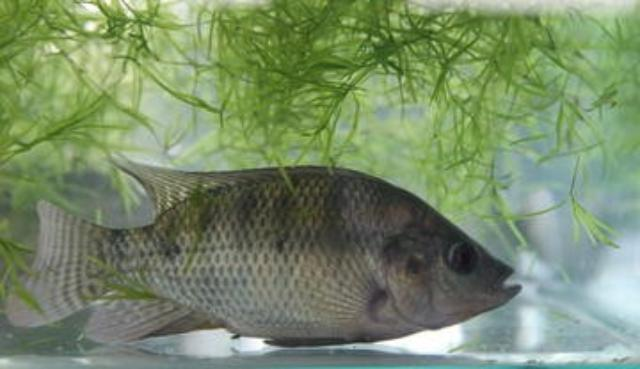Mulut: (459, 241, 545, 308)
Sirip Anal: (70, 273, 226, 353)
Sirip Dada: (279, 222, 385, 336)
Sirip Ekor: (0, 185, 124, 334)
Sirip Punggung: (96, 142, 356, 230)
